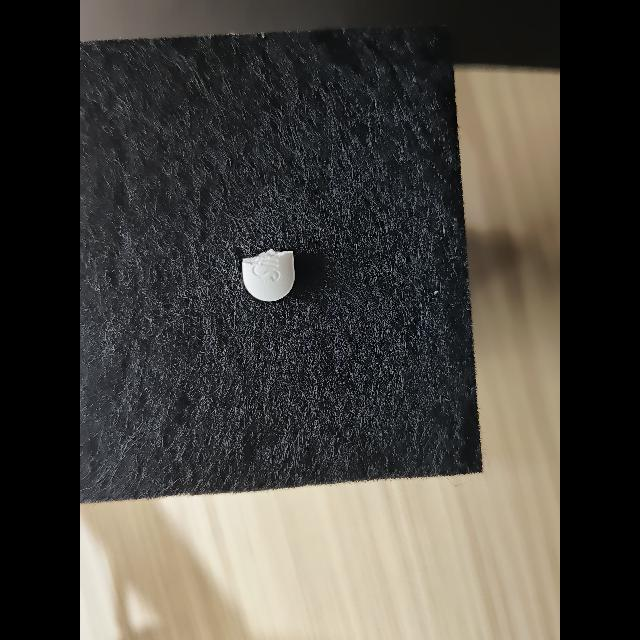Chipped Pill: (242, 249, 295, 301)
